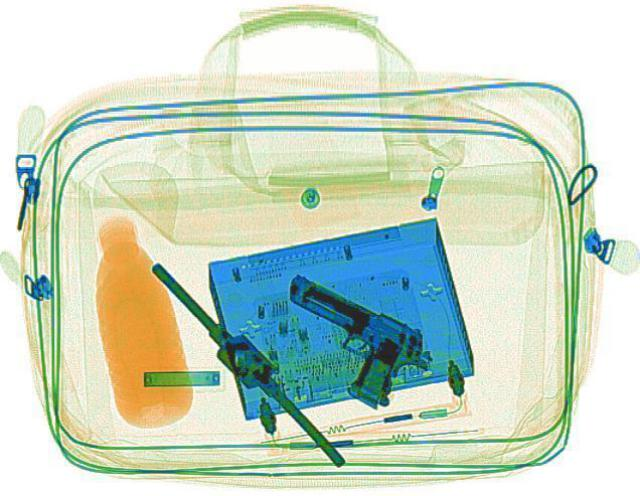Gun: (229, 270, 449, 411)
